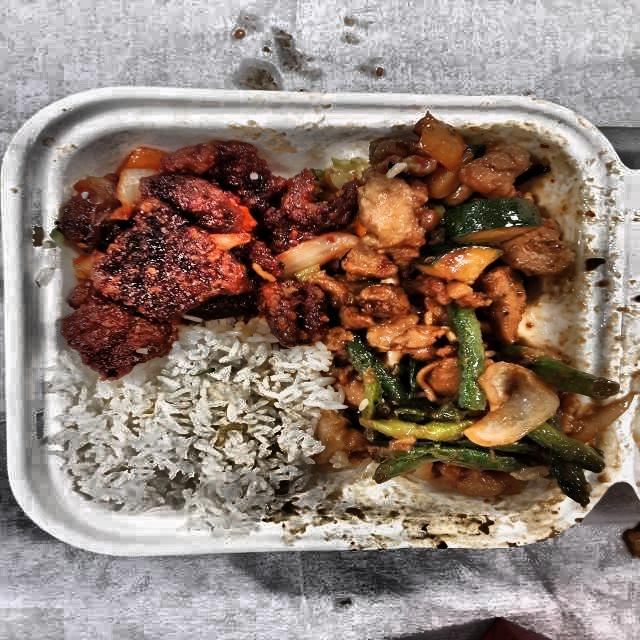Food: (52, 139, 328, 378), (305, 116, 580, 348), (334, 328, 612, 506), (68, 347, 330, 528)
